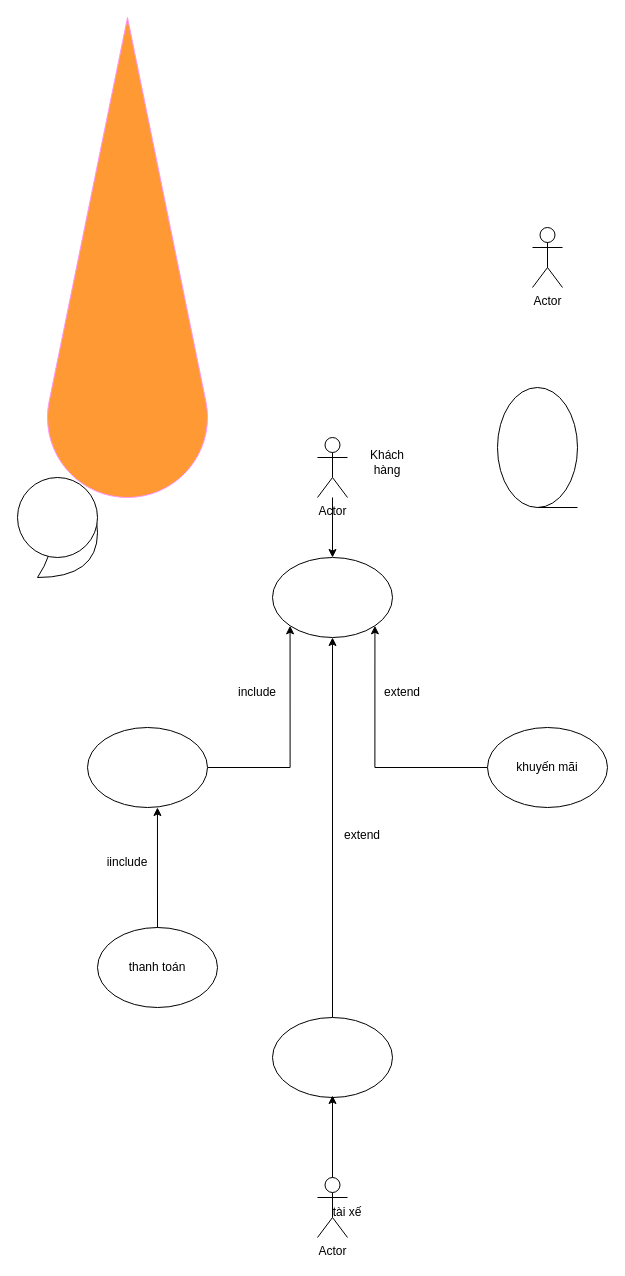
Image size: 625x1276. Some labels were removed from this diagram. Here are the shapes that lost their labels. From the top down, the centre of each, then its label:
At (332,597): "dặt xe".
At (147,767): "đăng nhập".
At (332,1057): "theo doi vị tri tài xế".
